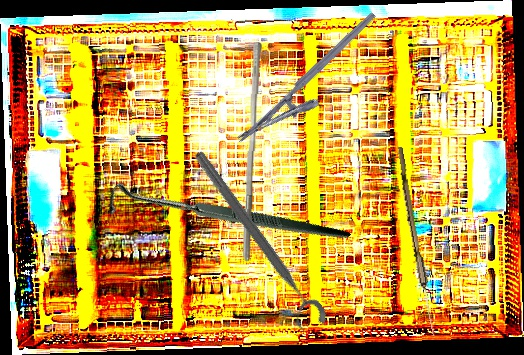Fixation Ring: (179, 146, 332, 339)
Hook Surgical: (100, 101, 351, 339)
Needle Holder: (235, 11, 394, 162)
Pusher: (241, 40, 263, 263)
Surgical Spoon: (393, 146, 439, 337)
